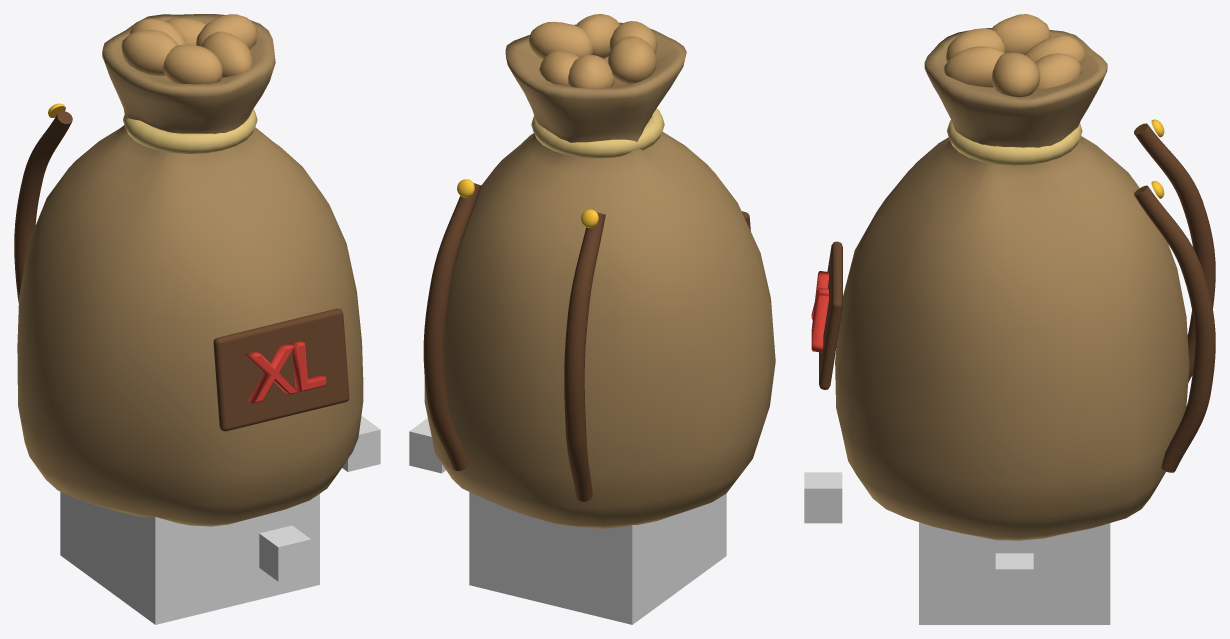
File: BigSack.fbx
3 views of the same model, side by side, from view 1: azimuth 30°, elevation 25°; view 2: azimuth 150°, elevation 25°; view 3: azimuth 270°, elevation 25° (orthographic).
Parts seen in each view (by area): view 1: Body__Burlap, Origin__Pivot, Body__WoodDark, Body__Potato, Body__Straw, Origin__AxisZ, Body__Red, Origin__AxisX; view 2: Body__Burlap, Origin__Pivot, Body__WoodDark, Body__Potato, Body__Straw, Origin__AxisX, Body__Gold; view 3: Body__Burlap, Origin__Pivot, Body__WoodDark, Body__Potato, Body__Straw, Origin__AxisZ, Origin__AxisX, Body__Red.
Boxes of the visible parts, box(x1,y1,x2,y2) form: Body__Burlap: box(17, 14, 363, 526); Origin__Pivot: box(60, 491, 319, 624); Body__WoodDark: box(14, 111, 349, 431); Body__Potato: box(121, 14, 257, 84); Body__Straw: box(123, 109, 257, 153); Origin__AxisZ: box(259, 525, 311, 581); Body__Red: box(246, 341, 326, 403); Origin__AxisX: box(342, 415, 380, 471); Body__Burlap: box(424, 22, 775, 528); Origin__Pivot: box(469, 492, 726, 624); Body__WoodDark: box(423, 183, 750, 501); Body__Potato: box(529, 14, 657, 88); Body__Straw: box(531, 108, 664, 158); Origin__AxisX: box(409, 418, 445, 473); Body__Gold: box(457, 179, 598, 227); Body__Burlap: box(835, 28, 1189, 540); Origin__Pivot: box(919, 522, 1110, 624); Body__WoodDark: box(819, 123, 1215, 472); Body__Potato: box(943, 14, 1085, 97); Body__Straw: box(947, 120, 1082, 165); Origin__AxisZ: box(804, 472, 842, 523); Origin__AxisX: box(995, 553, 1033, 603); Body__Red: box(811, 271, 828, 352).
Size of the model in its own units: 2.03 by 3.16 by 2.15.
